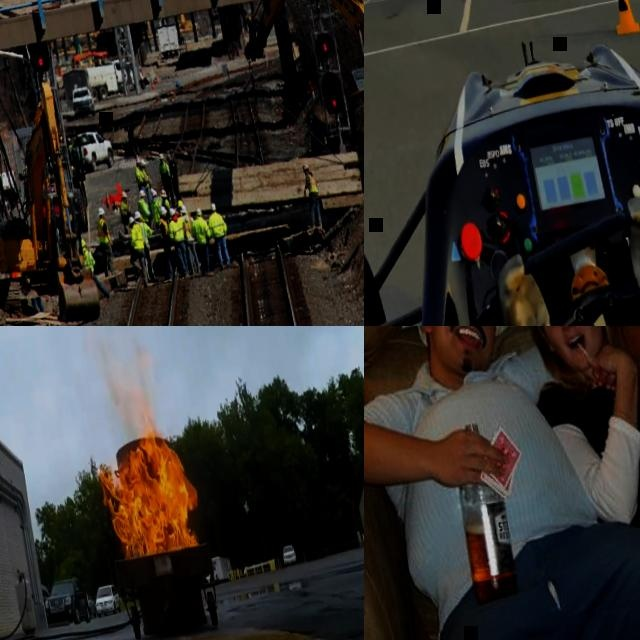Hardhat: (159, 188, 168, 198), (159, 204, 168, 214), (96, 207, 105, 216), (133, 210, 141, 220), (79, 236, 86, 247), (208, 202, 216, 211), (195, 208, 203, 217), (168, 207, 176, 216), (138, 189, 146, 198), (127, 216, 135, 225), (139, 160, 147, 167), (120, 190, 127, 198), (134, 156, 141, 163), (302, 164, 309, 170), (151, 190, 157, 197), (179, 205, 185, 212), (158, 153, 165, 159), (65, 136, 71, 142), (165, 154, 171, 159)
NO-Mask: (418, 326, 498, 376), (545, 326, 610, 373)
NO-Safety Vest: (375, 339, 599, 587), (543, 343, 640, 535), (169, 159, 178, 177)
Person: (364, 326, 640, 640), (512, 326, 640, 640), (490, 193, 640, 326), (78, 231, 116, 301), (122, 210, 152, 288), (133, 208, 163, 283), (187, 207, 217, 277), (153, 204, 179, 281), (164, 207, 192, 278), (206, 200, 234, 270), (93, 205, 120, 276), (297, 162, 325, 230), (178, 207, 202, 279), (110, 189, 134, 235), (157, 152, 175, 206), (165, 152, 183, 205), (135, 189, 153, 229), (148, 187, 164, 228), (131, 155, 145, 191), (139, 158, 153, 191), (29, 294, 46, 315), (158, 188, 171, 210), (65, 136, 74, 156), (175, 198, 184, 209)
Safety Cone: (608, 0, 639, 37), (103, 190, 113, 209), (150, 64, 156, 82), (149, 74, 155, 90), (154, 71, 159, 83)
Safety Vest: (189, 216, 211, 245), (207, 211, 229, 238), (167, 215, 187, 243), (137, 219, 155, 250), (127, 223, 145, 250), (180, 213, 196, 242), (94, 216, 110, 245), (81, 246, 97, 273), (136, 197, 152, 223), (150, 196, 164, 224), (157, 215, 171, 239), (306, 172, 319, 196), (157, 160, 171, 181), (141, 167, 152, 188), (118, 199, 130, 217), (134, 166, 145, 185), (162, 198, 170, 208), (67, 143, 74, 154)
machinery: (224, 0, 364, 210), (0, 76, 104, 326)
vehicle: (364, 0, 640, 326), (60, 56, 136, 108), (41, 574, 91, 629), (66, 126, 116, 174), (92, 583, 122, 617), (156, 24, 184, 59), (68, 85, 96, 118), (280, 544, 299, 566), (203, 567, 220, 587), (41, 583, 51, 607), (87, 594, 97, 618)
